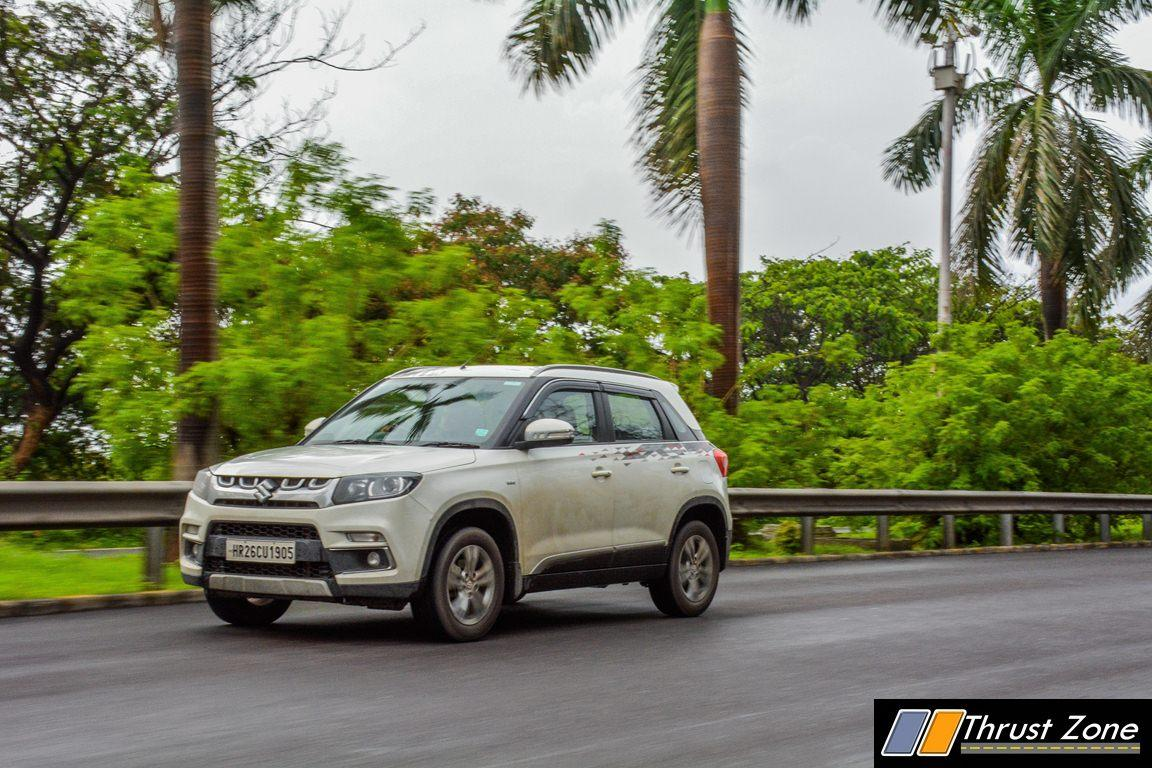car: (131, 288, 769, 698)
